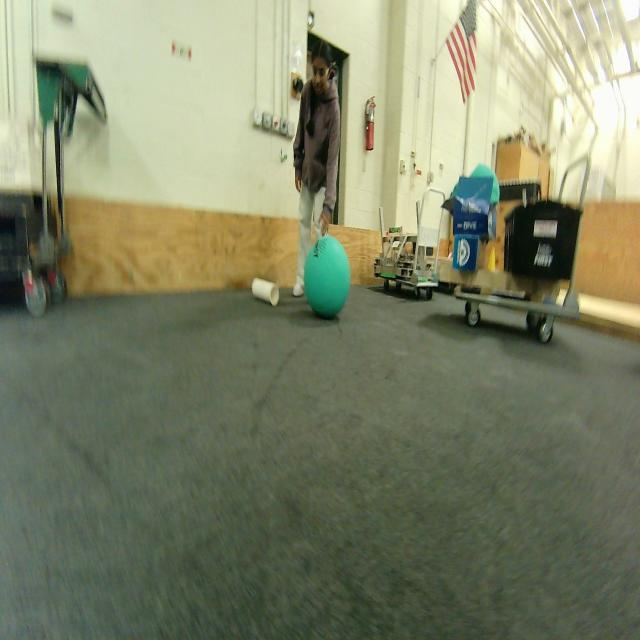algae: (304, 234, 350, 318)
